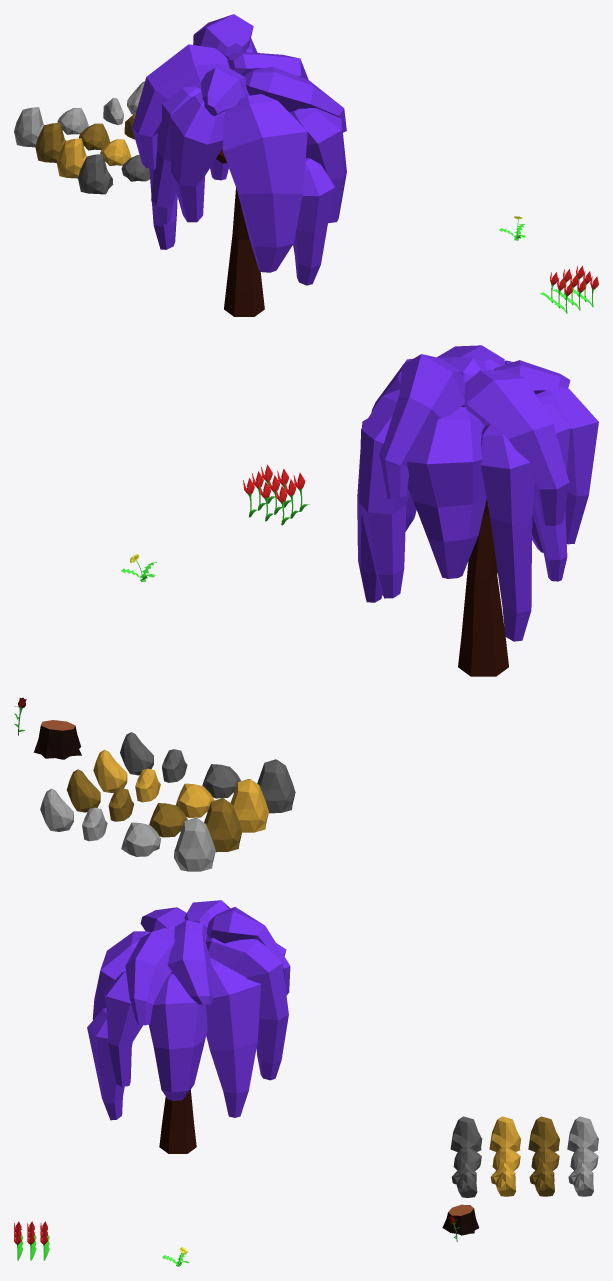
The model's file is groot.fbx.
3 renders of one model, top to bottom at view 1: azimuth 30°, elevation 25°; view 2: azimuth 150°, elevation 25°; view 3: azimuth 270°, elevation 25°, orthographic. The views are drawn at different scales.
Visible parts, largest first — view 1: Tree_Type6_03_mesh, Box005, GeoSphere001, GeoSphere005, GeoSphere009, GeoSphere013, GeoSphere006, GeoSphere010, GeoSphere014, GeoSphere002, GeoSphere015; view 2: Tree_Type6_03_mesh, GeoSphere013, Box005, GeoSphere001, GeoSphere005, GeoSphere009, Object, GeoSphere014, GeoSphere016, GeoSphere008, GeoSphere012, GeoSphere004 (+3 smaller); view 3: Tree_Type6_03_mesh, GeoSphere001, GeoSphere013, GeoSphere009, GeoSphere005, Object, Box005.
Part boxes in pixels (left/top/right/bottom): Tree_Type6_03_mesh: left=132, top=14, right=346, bottom=316; Box005: left=540, top=265, right=598, bottom=313; GeoSphere001: left=78, top=154, right=113, bottom=194; GeoSphere005: left=56, top=138, right=86, bottom=178; GeoSphere009: left=35, top=122, right=65, bottom=162; GeoSphere013: left=14, top=107, right=44, bottom=147; GeoSphere006: left=100, top=139, right=131, bottom=165; GeoSphere010: left=79, top=123, right=109, bottom=150; GeoSphere014: left=57, top=108, right=88, bottom=134; GeoSphere002: left=121, top=155, right=149, bottom=181; GeoSphere015: left=103, top=97, right=123, bottom=125; Tree_Type6_03_mesh: left=357, top=345, right=598, bottom=676; GeoSphere013: left=174, top=818, right=215, bottom=871; Box005: left=243, top=464, right=310, bottom=525; GeoSphere001: left=257, top=759, right=295, bottom=813; GeoSphere005: left=230, top=779, right=268, bottom=832; GeoSphere009: left=204, top=798, right=242, bottom=852; Object: left=33, top=720, right=81, bottom=759; GeoSphere014: left=121, top=822, right=160, bottom=856; GeoSphere016: left=40, top=788, right=73, bottom=831; GeoSphere008: left=93, top=750, right=127, bottom=792; GeoSphere012: left=67, top=769, right=100, bottom=812; GeoSphere004: left=120, top=732, right=153, bottom=775; Tree_Type6_03_mesh: left=87, top=900, right=290, bottom=1153; GeoSphere001: left=450, top=1116, right=482, bottom=1151; GeoSphere013: left=567, top=1116, right=598, bottom=1151; GeoSphere009: left=528, top=1116, right=559, bottom=1151; GeoSphere005: left=489, top=1116, right=520, bottom=1151; Object: left=442, top=1204, right=479, bottom=1235; Box005: left=14, top=1221, right=49, bottom=1260.
Bounding box in the file's own units: 278 × 191 × 415.
